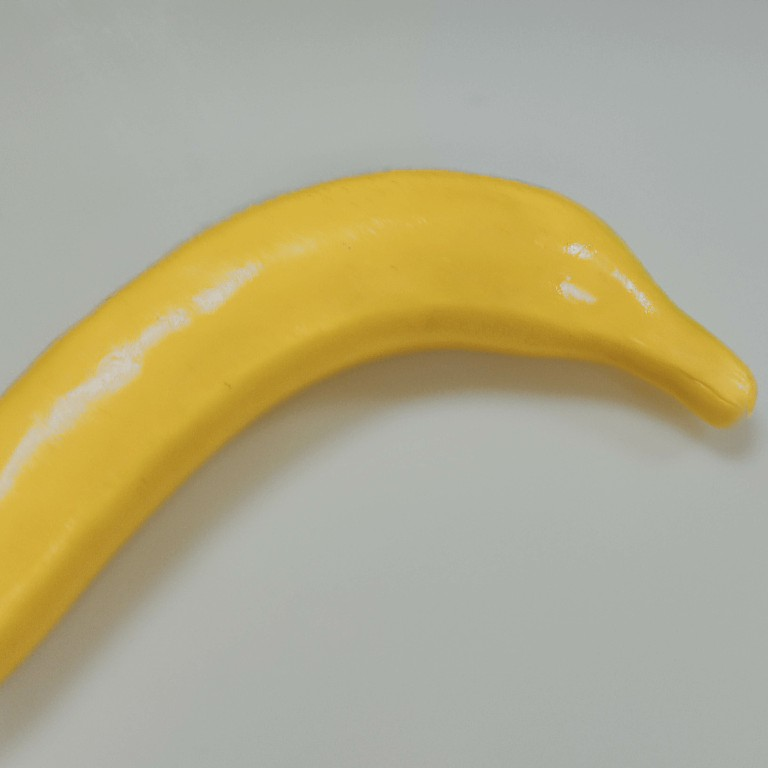fruit_banana: (1, 167, 759, 682)
